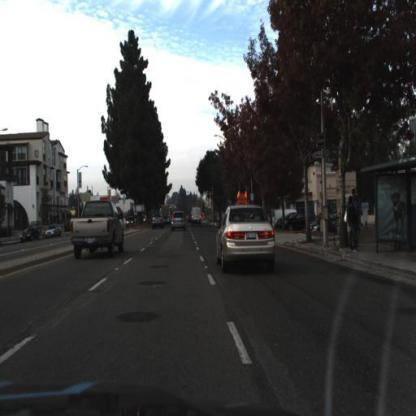car: (213, 200, 281, 276), (67, 193, 129, 263), (280, 208, 319, 234), (169, 206, 190, 236), (189, 201, 206, 232), (19, 224, 42, 246), (151, 209, 168, 236), (44, 222, 64, 241), (23, 228, 41, 244), (192, 205, 204, 225)
pedestrian: (344, 194, 359, 253), (350, 186, 362, 253), (352, 185, 360, 249)
truck: (269, 210, 300, 231)
